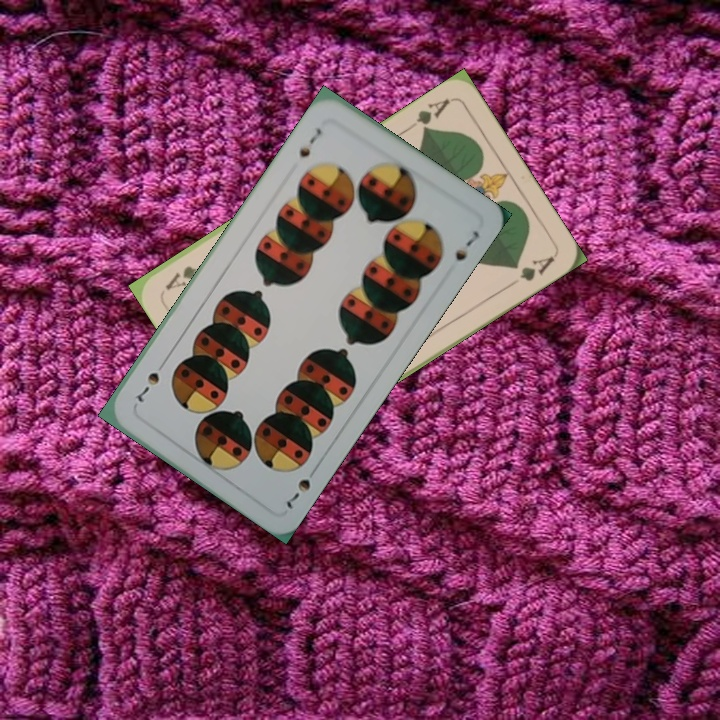GA: (402, 94, 453, 135)
S7: (282, 474, 314, 512), (295, 124, 324, 160)
